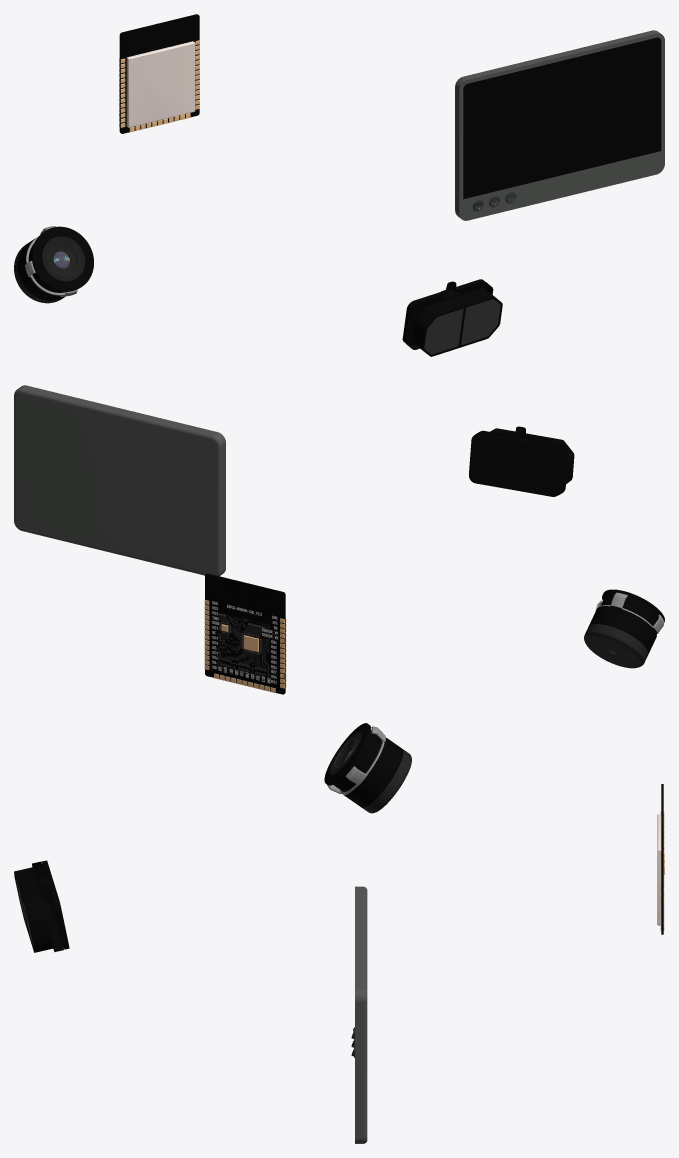
Rendered from caritems-transformed.glb.
The picture shows the model from 3 angles, top to bottom: view 1: azimuth 30°, elevation 25°; view 2: azimuth 150°, elevation 25°; view 3: azimuth 270°, elevation 25°; orthographic projection. The views are drawn at different scales.
Parts seen in each view (by area): view 1: lidar_module, chip.001, esp32_module, glass.002; view 2: lidar_module, esp32_module.002, esp32_module; view 3: lidar_module.
Boxes of the visible parts, x1,y1,x2,y2 form: lidar_module: [14, 30, 664, 356]; chip.001: [129, 43, 194, 126]; esp32_module: [119, 14, 199, 133]; glass.002: [43, 237, 84, 280]; lidar_module: [14, 385, 664, 692]; esp32_module.002: [210, 591, 279, 687]; esp32_module: [205, 573, 285, 694]; lidar_module: [14, 723, 664, 1143].
Bounding box in the file's own units: 10.3 × 2.18 × 8.32.
Materials: 7 (6 with a texture image).
